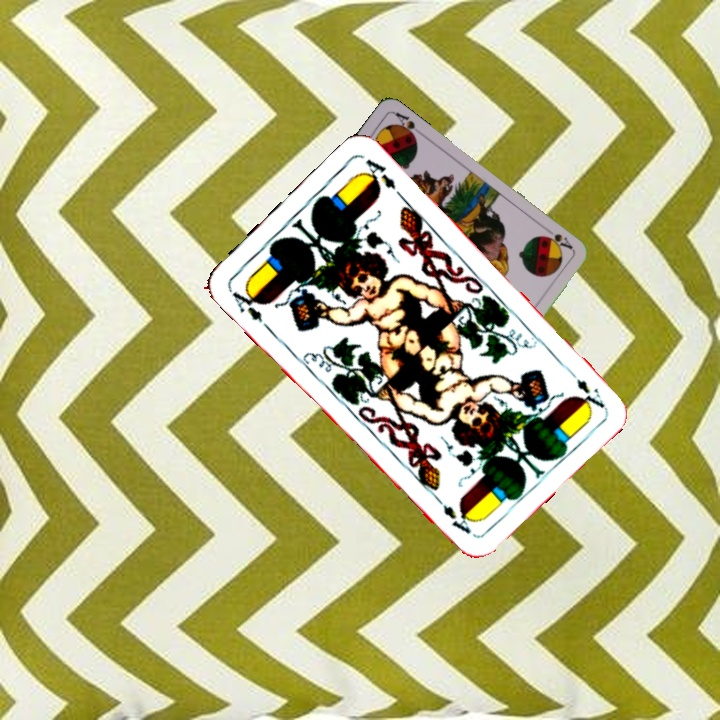EA: (562, 363, 608, 412), (225, 282, 266, 326)
SA: (539, 223, 576, 252)
